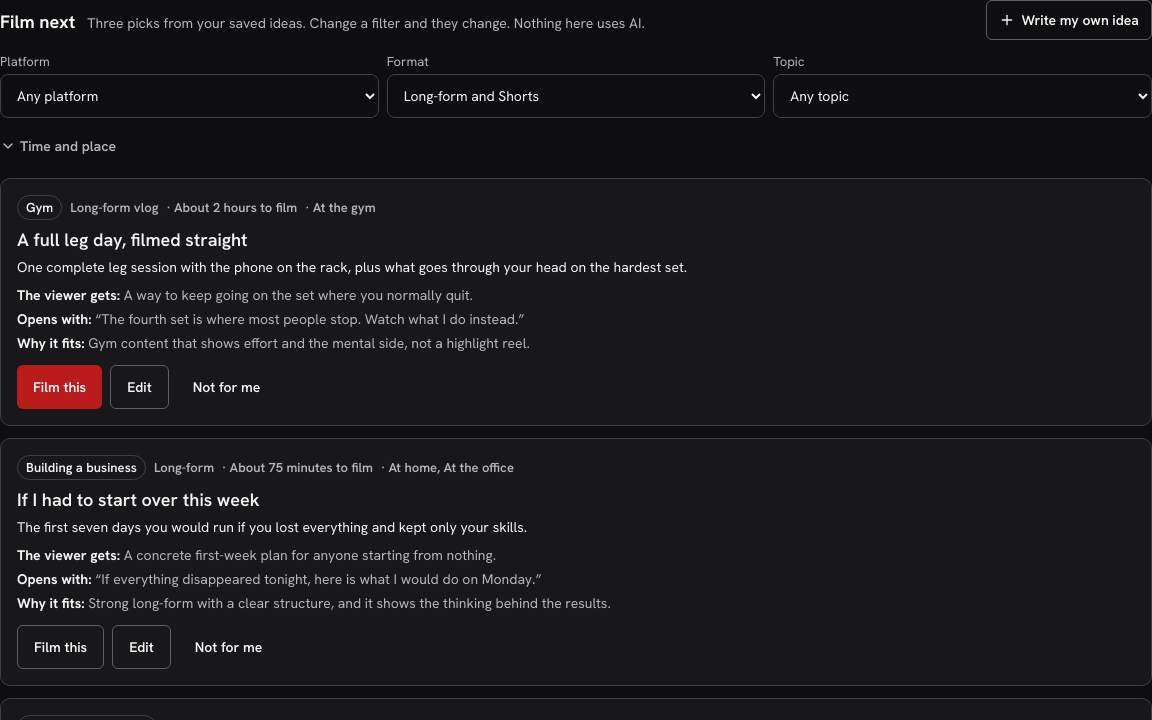
Scenario: Film next: filters › changing a filter changes the picks, and every pick fits it
The image size is (1152, 720).
Select "Shorts" in the dropdown labelled "Format" at (576, 96), box [387,74,765,118]
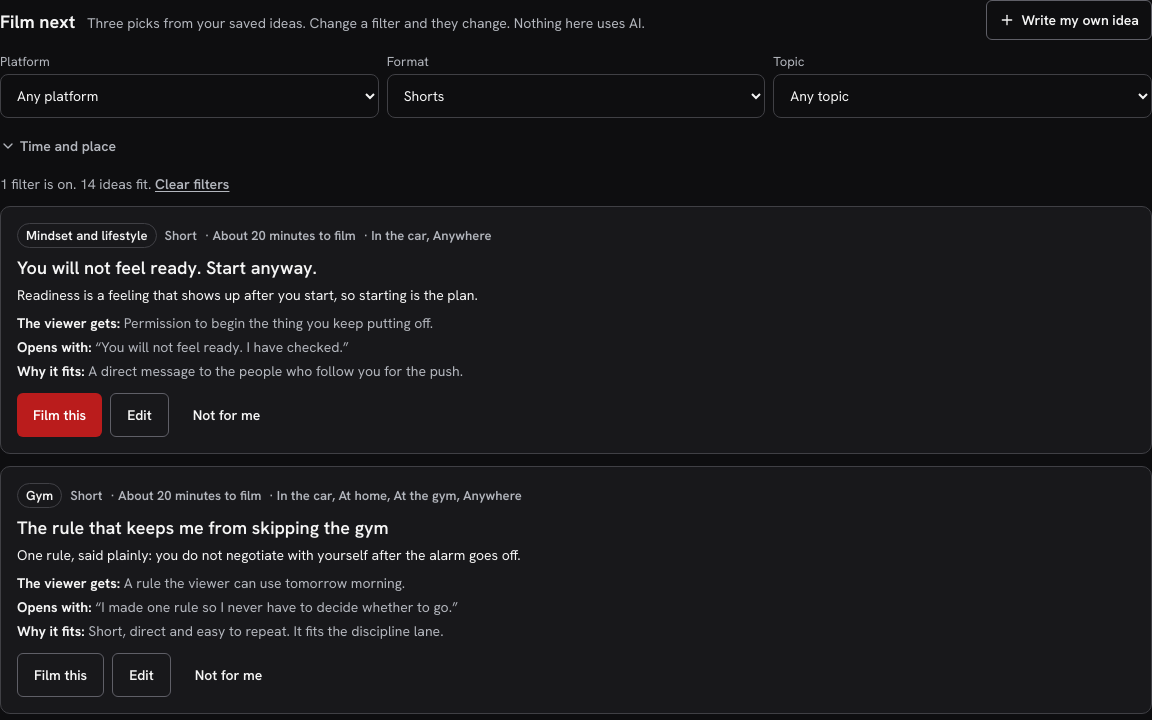
Now the message shows "1 filter is on", box [0,174,230,194]
